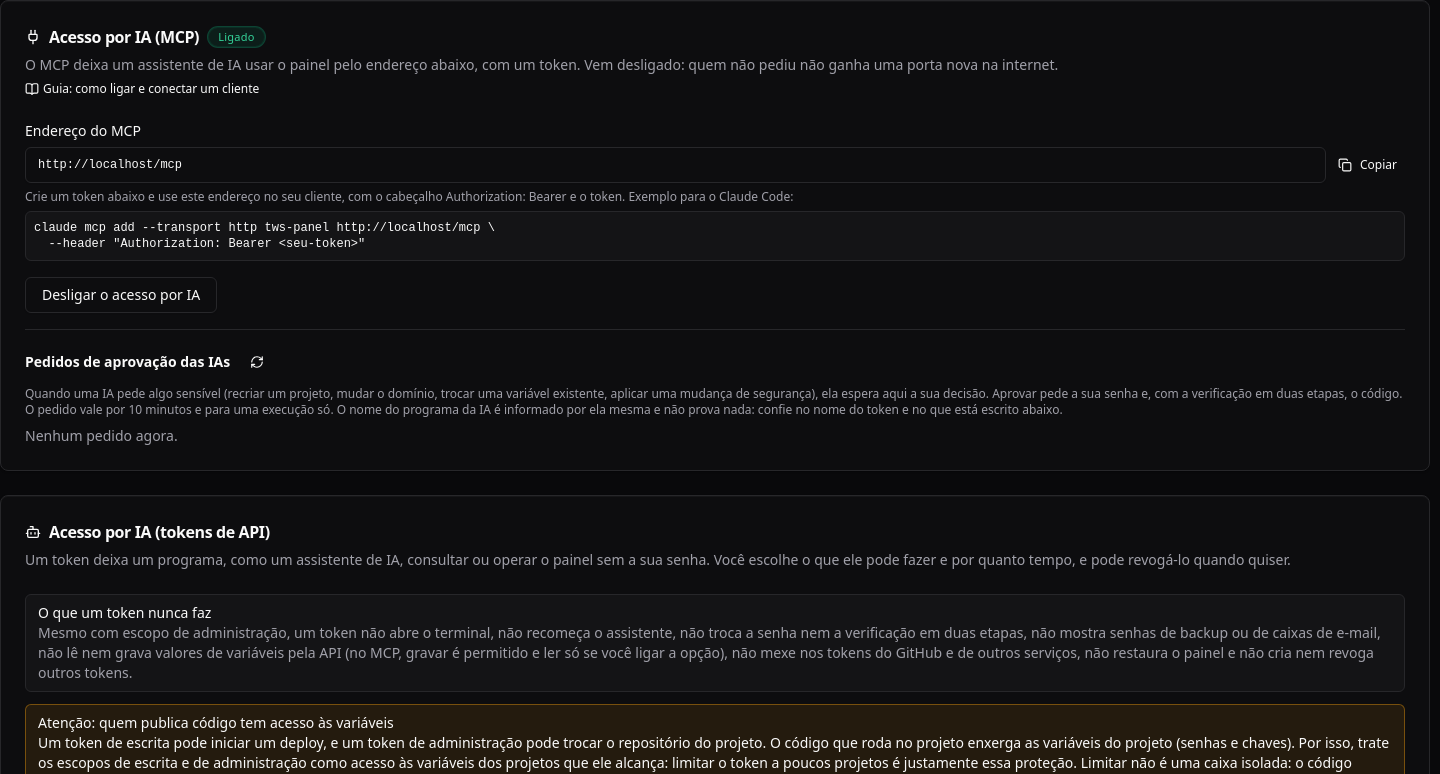
Test: MCP: liga e desliga › desligar não pede senha; erro ao ligar aparece como alerta
Click the button "Desligar o acesso por IA" at (121, 295), box [25,277,217,313]
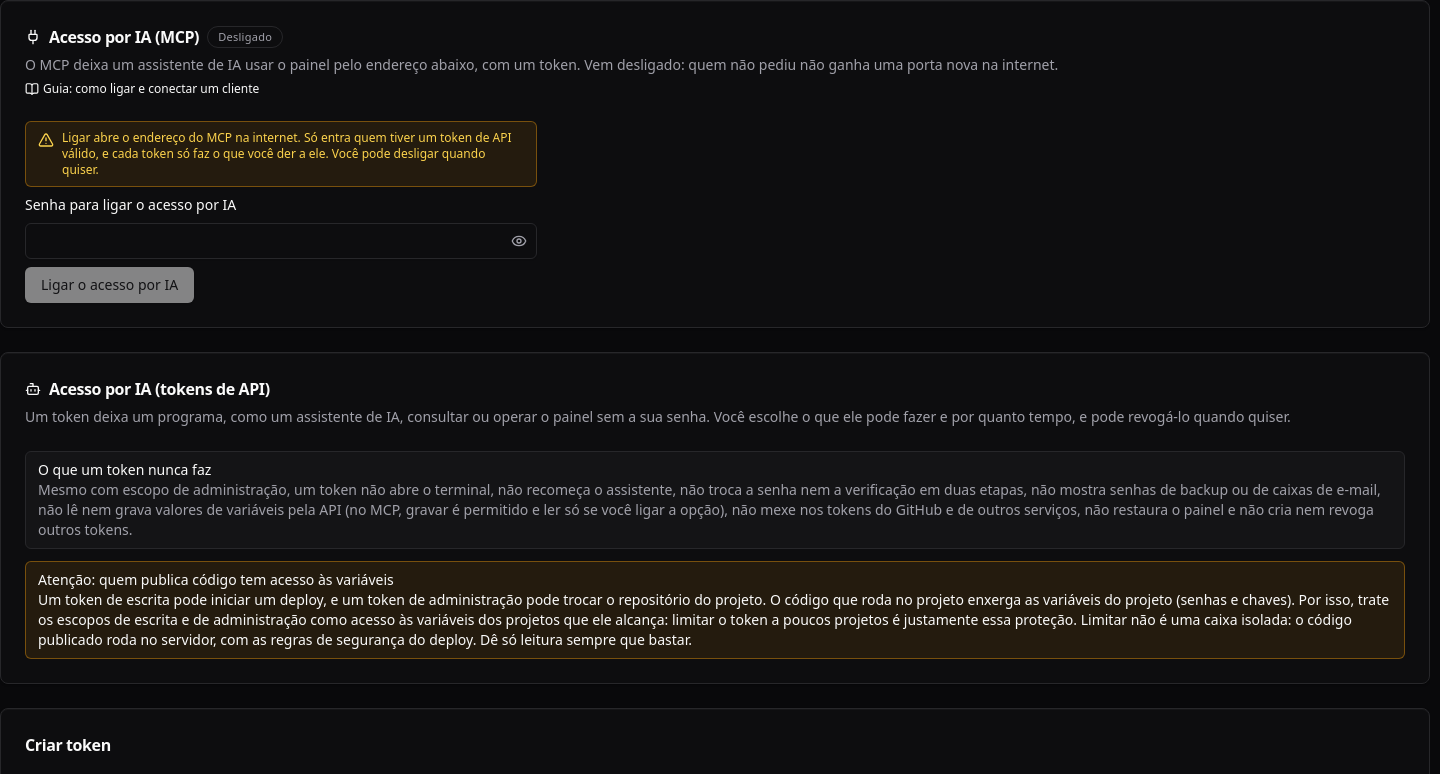
Expected: the text "Desligado" is shown, [207,26,283,48]
Type "errada" into the password field labelled "Senha para ligar o acesso por IA" at (281, 241), box [25,223,537,259]
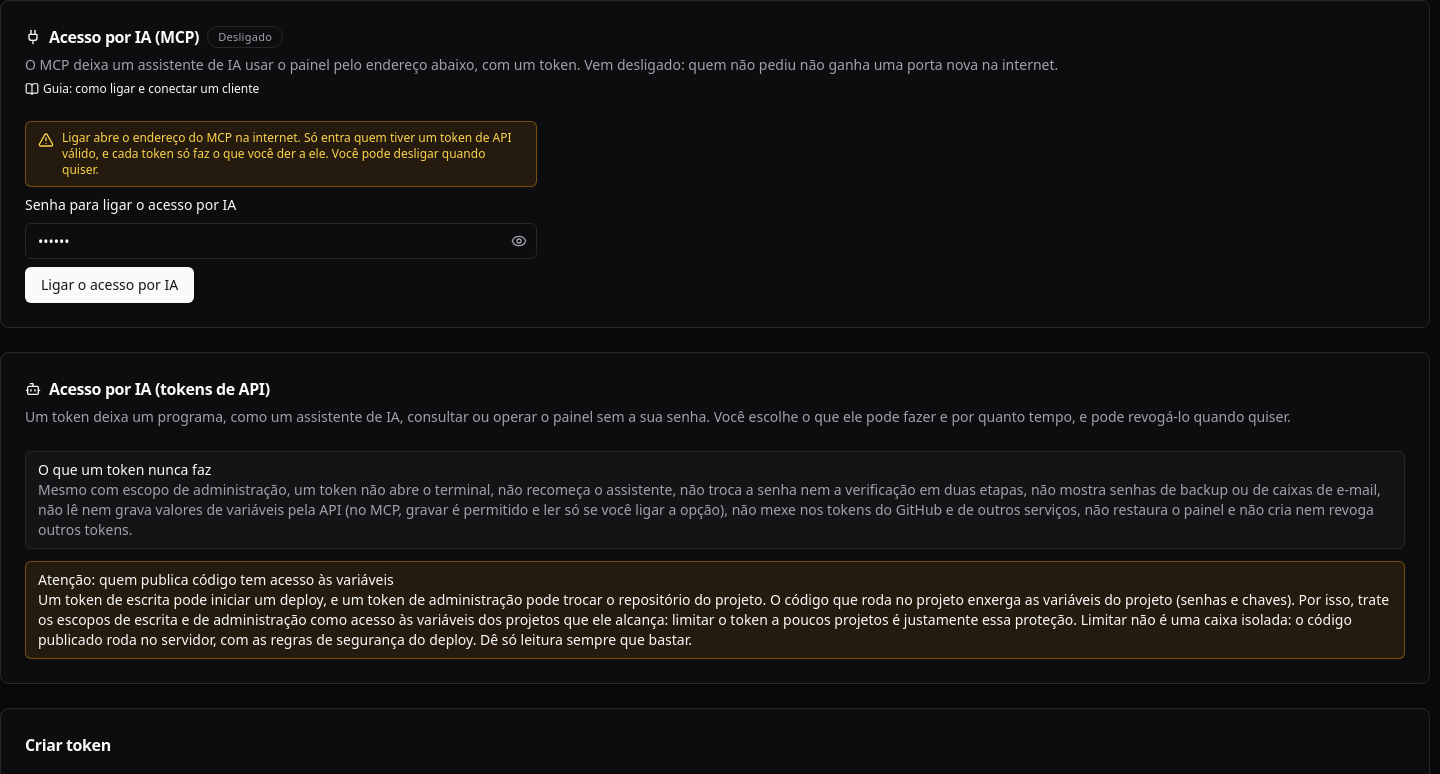
Click the button "Ligar o acesso por IA" at (110, 285), box [25,267,194,303]
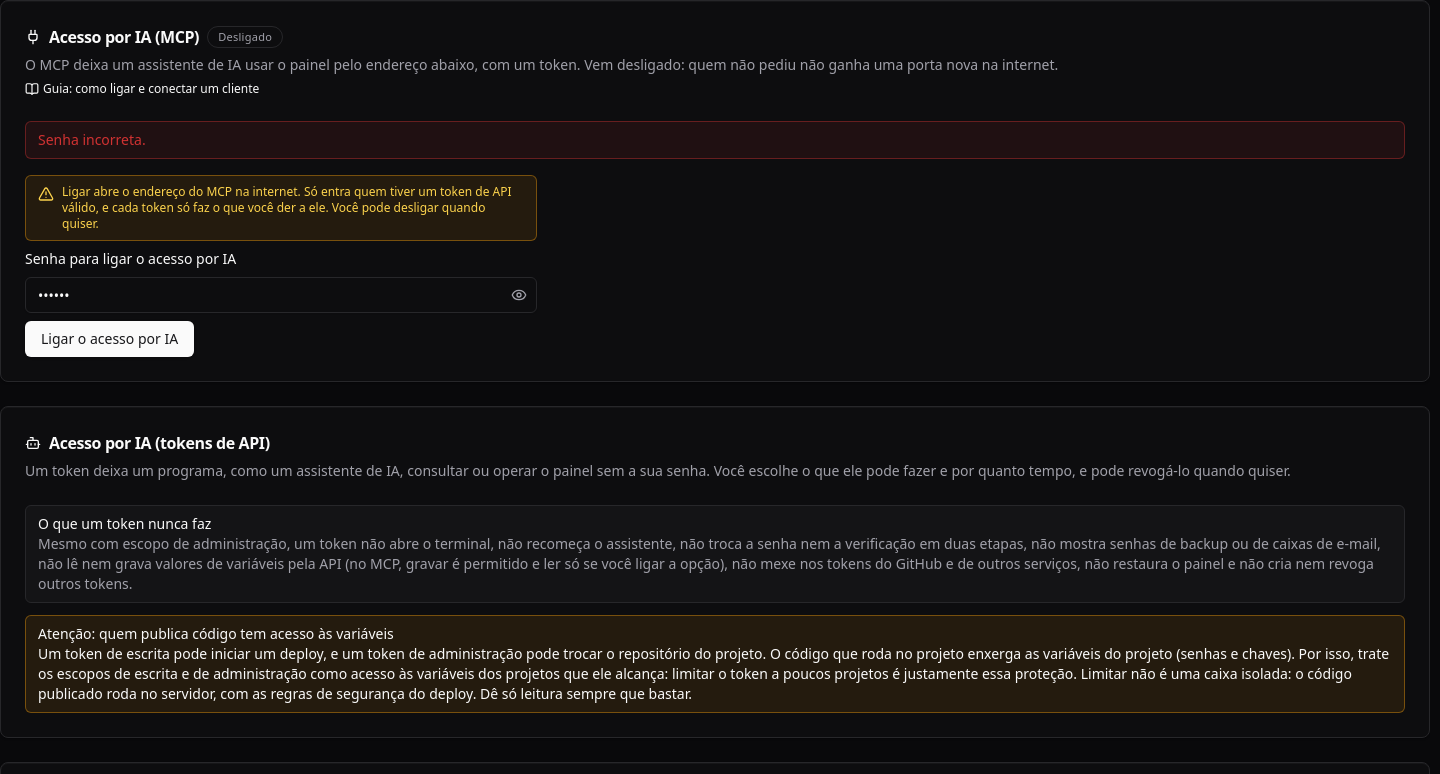
Expected: the message "Senha incorreta." is shown, [25,121,1405,159]
